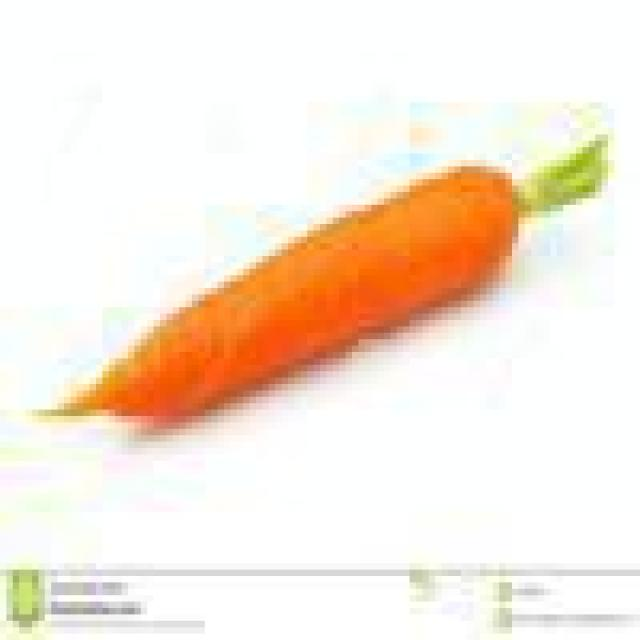Fresh_Carrot: (42, 131, 613, 423)
